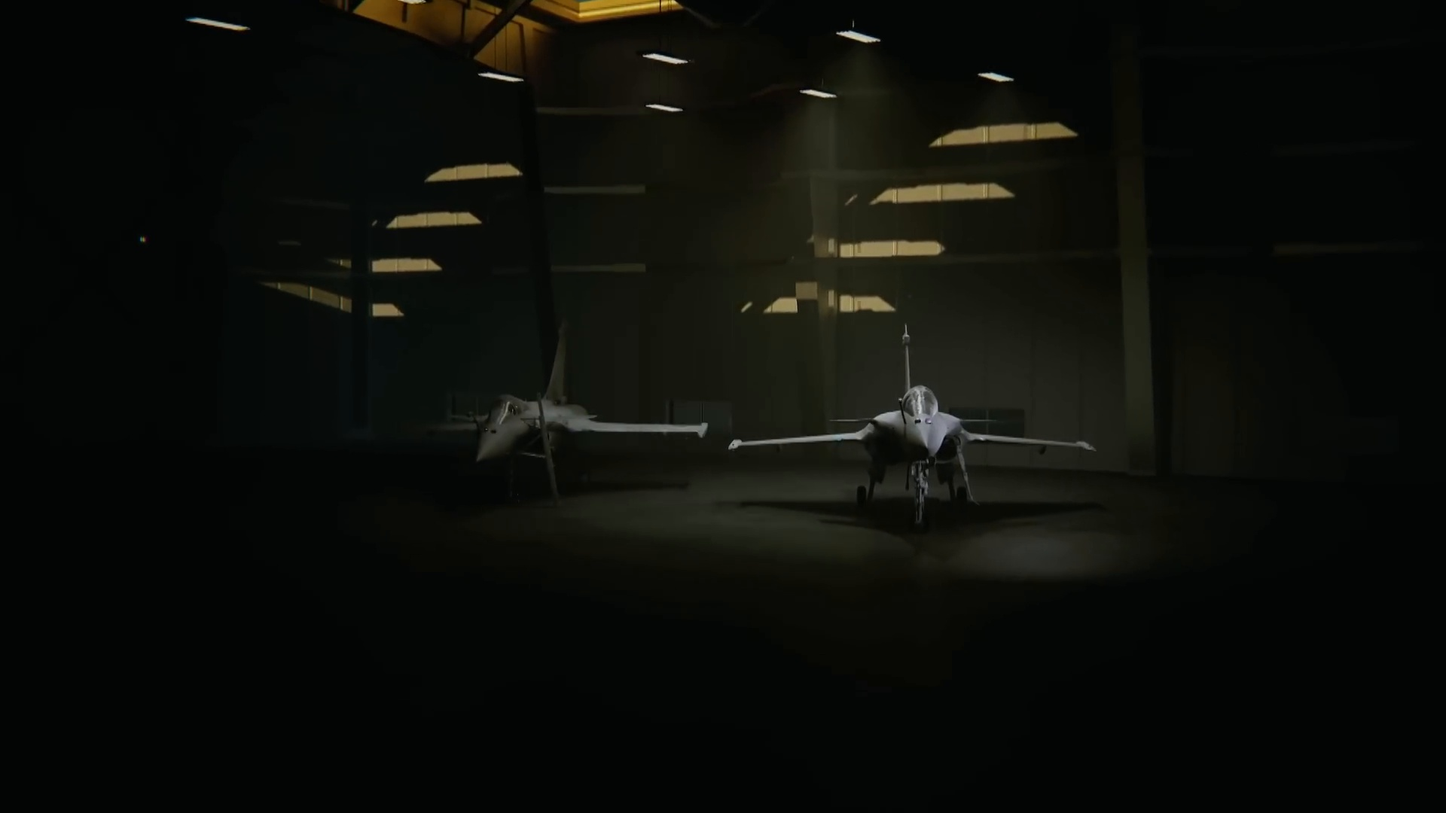Rafale: (727, 322, 1101, 535), (356, 311, 713, 513)
